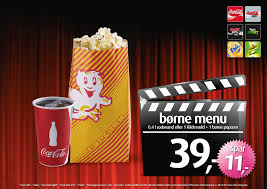coke: (28, 89, 75, 175)
